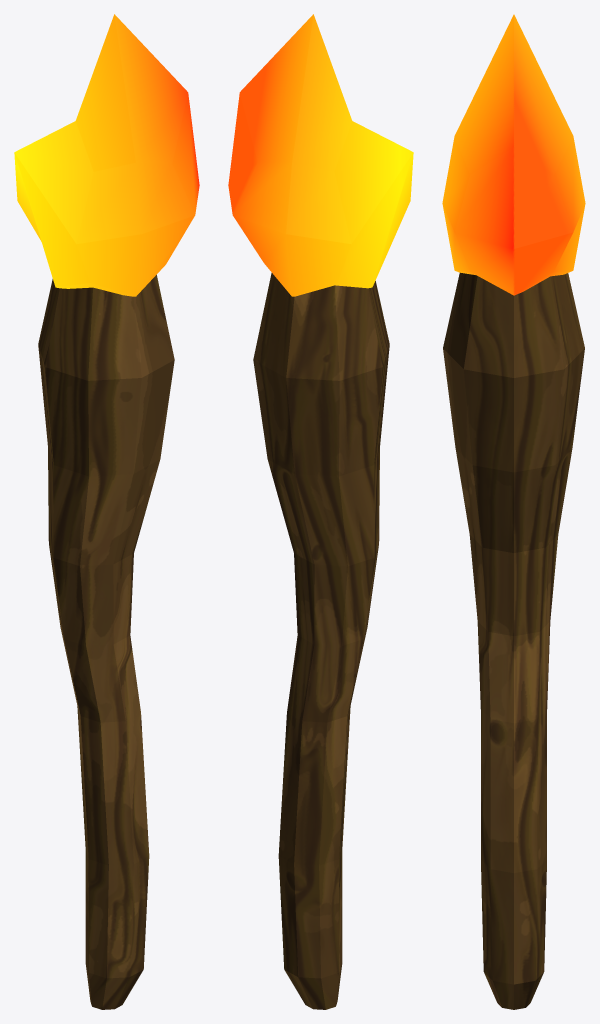
The model's file is Torch.fbx.
The picture shows the model from 3 angles, left to right: view 1: azimuth 30°, elevation 25°; view 2: azimuth 150°, elevation 25°; view 3: azimuth 270°, elevation 25°; orthographic projection.
Parts seen in each view (by area): view 1: Torch; view 2: Torch; view 3: Torch.
Boxes of the visible parts, x1=… form: Torch: x1=14, y1=14, x2=199, y2=1009; Torch: x1=228, y1=14, x2=413, y2=1009; Torch: x1=442, y1=14, x2=585, y2=1009.
Size of the model in its own units: 5.62 by 28.62 by 3.74.
